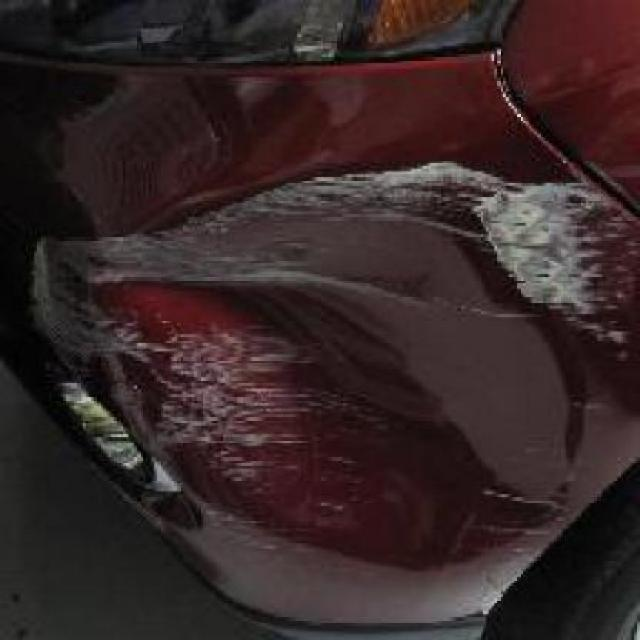dent-or-scratch: (26, 154, 636, 536)
